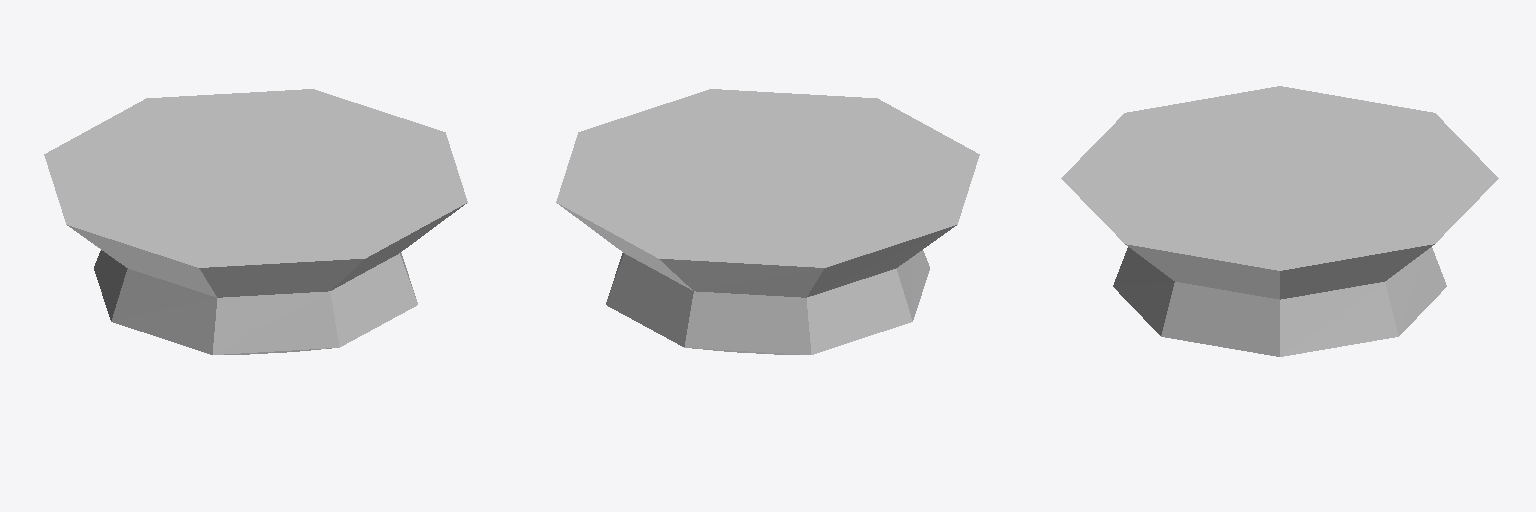
File: Tomb Time Bonus Runde.obj
3 renders of one model, left to right at view 1: azimuth 30°, elevation 25°; view 2: azimuth 150°, elevation 25°; view 3: azimuth 270°, elevation 25°, orthographic.
Visible parts, largest first — view 1: Mesh1 Component1 Tomb_Time_Bonus_Runde__Plattform_ Scene e16d_cd; view 2: Mesh1 Component1 Tomb_Time_Bonus_Runde__Plattform_ Scene e16d_cd; view 3: Mesh1 Component1 Tomb_Time_Bonus_Runde__Plattform_ Scene e16d_cd.
Part boxes in pixels (x1,y1,x2,y2): Mesh1 Component1 Tomb_Time_Bonus_Runde__Plattform_ Scene e16d_cd: (44,89,467,354); Mesh1 Component1 Tomb_Time_Bonus_Runde__Plattform_ Scene e16d_cd: (556,89,979,354); Mesh1 Component1 Tomb_Time_Bonus_Runde__Plattform_ Scene e16d_cd: (1061,86,1498,356).
Size of the model in its own units: 161 by 62.99 by 161.